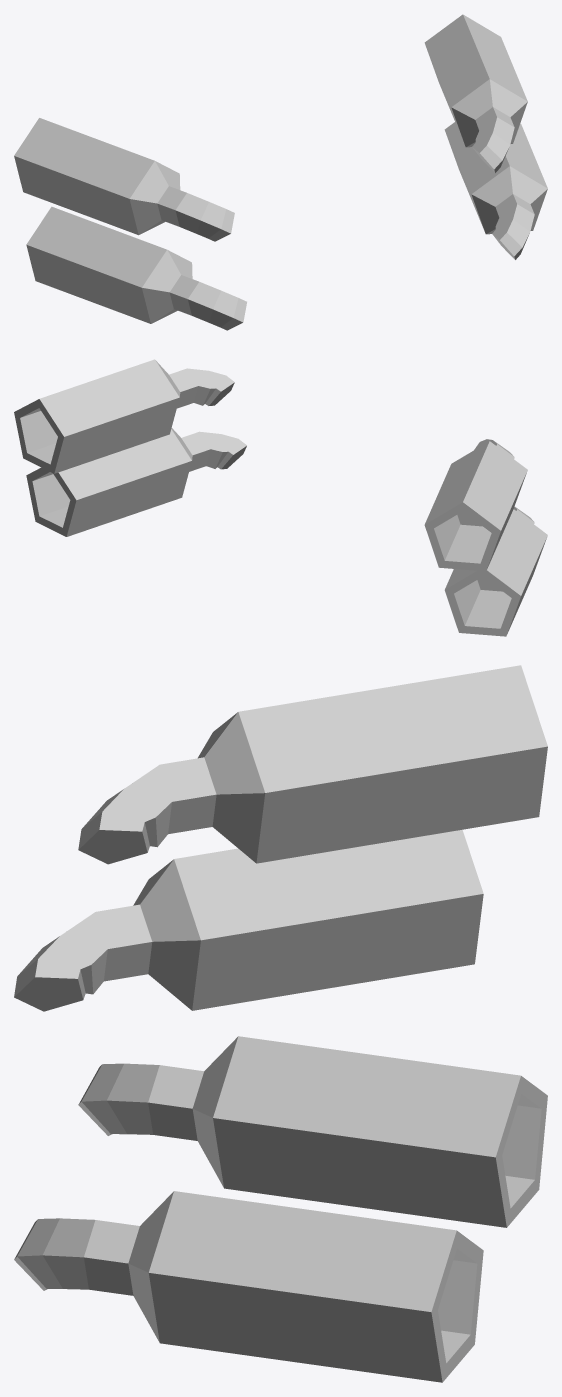
File: BackPipes1.fbx
3 renders of one model, top to bottom at view 1: azimuth 30°, elevation 25°; view 2: azimuth 150°, elevation 25°; view 3: azimuth 270°, elevation 25°, orthographic. The views are drawn at different scales.
Parts seen in each view (by area): view 1: BACKPIPES_S1; view 2: BACKPIPES_S1; view 3: BACKPIPES_S1.
Boxes of the visible parts, left/top/right/bottom form: BACKPIPES_S1: left=14, top=14, right=547, bottom=330; BACKPIPES_S1: left=14, top=359, right=547, bottom=636; BACKPIPES_S1: left=14, top=665, right=547, bottom=1382.
Size of the model in its own units: 2.83 by 1.33 by 0.792.
